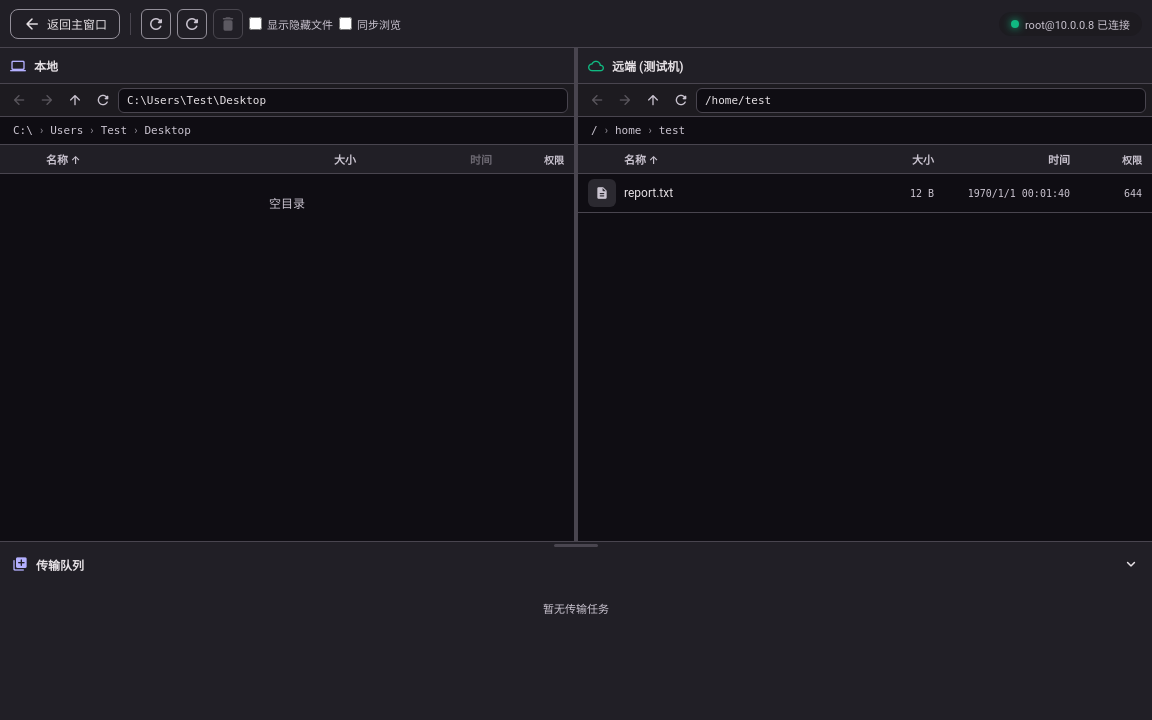
Test: SFTP 远端文本编辑（外部编辑器） › 非本会话的编辑同步事件被忽略
Right-click the text "report.txt" at (649, 193), box x1=624 y1=186 x2=673 y2=200
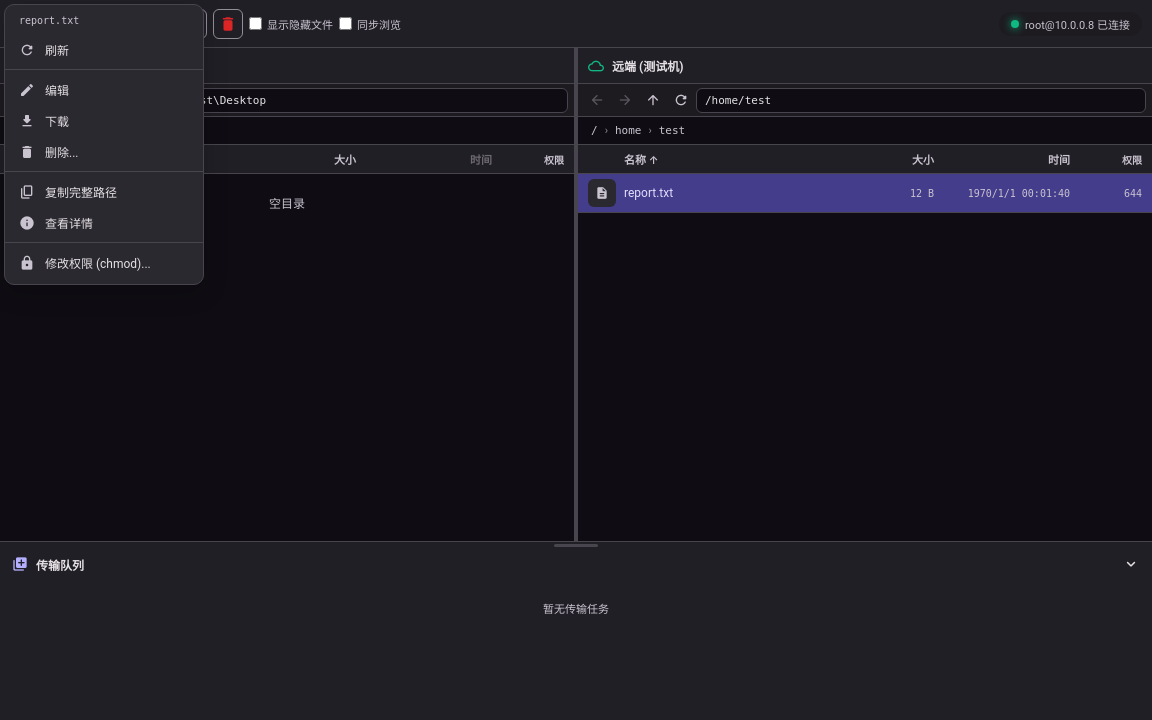
Click the menu item "编辑". click: (44, 90)
box: x1=19 y1=82 x2=69 y2=98
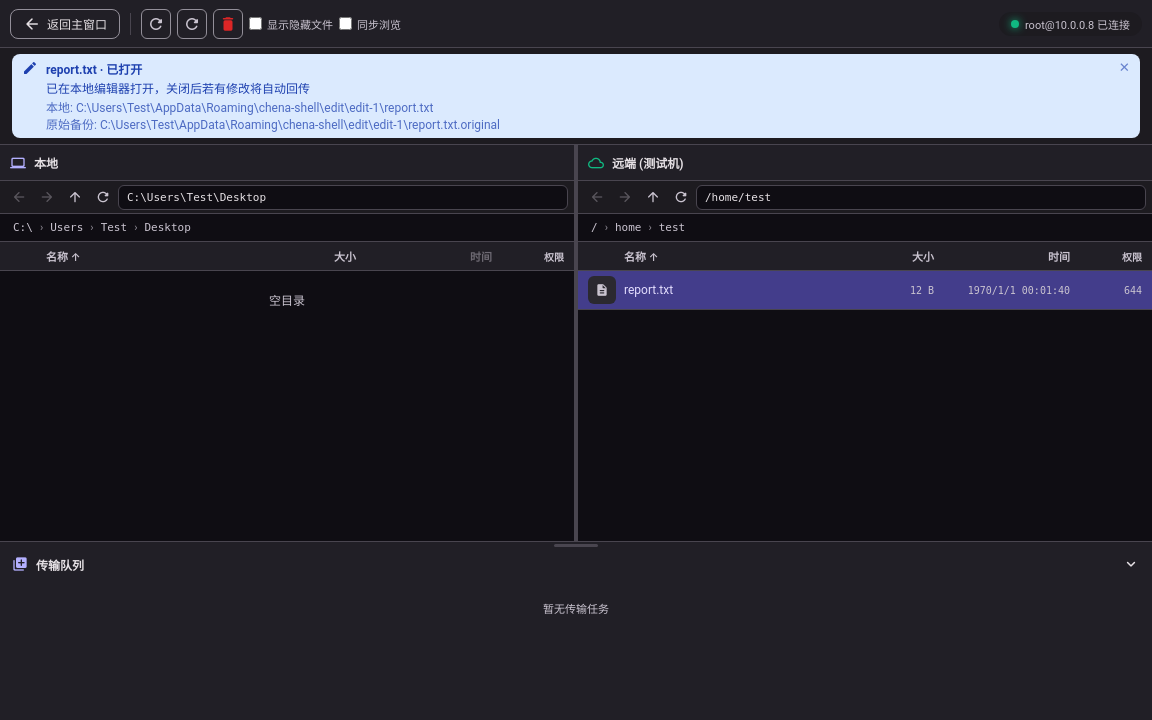
Expected: the message with test id "edit-notice-opened" is shown, x1=12 y1=54 x2=1140 y2=138
